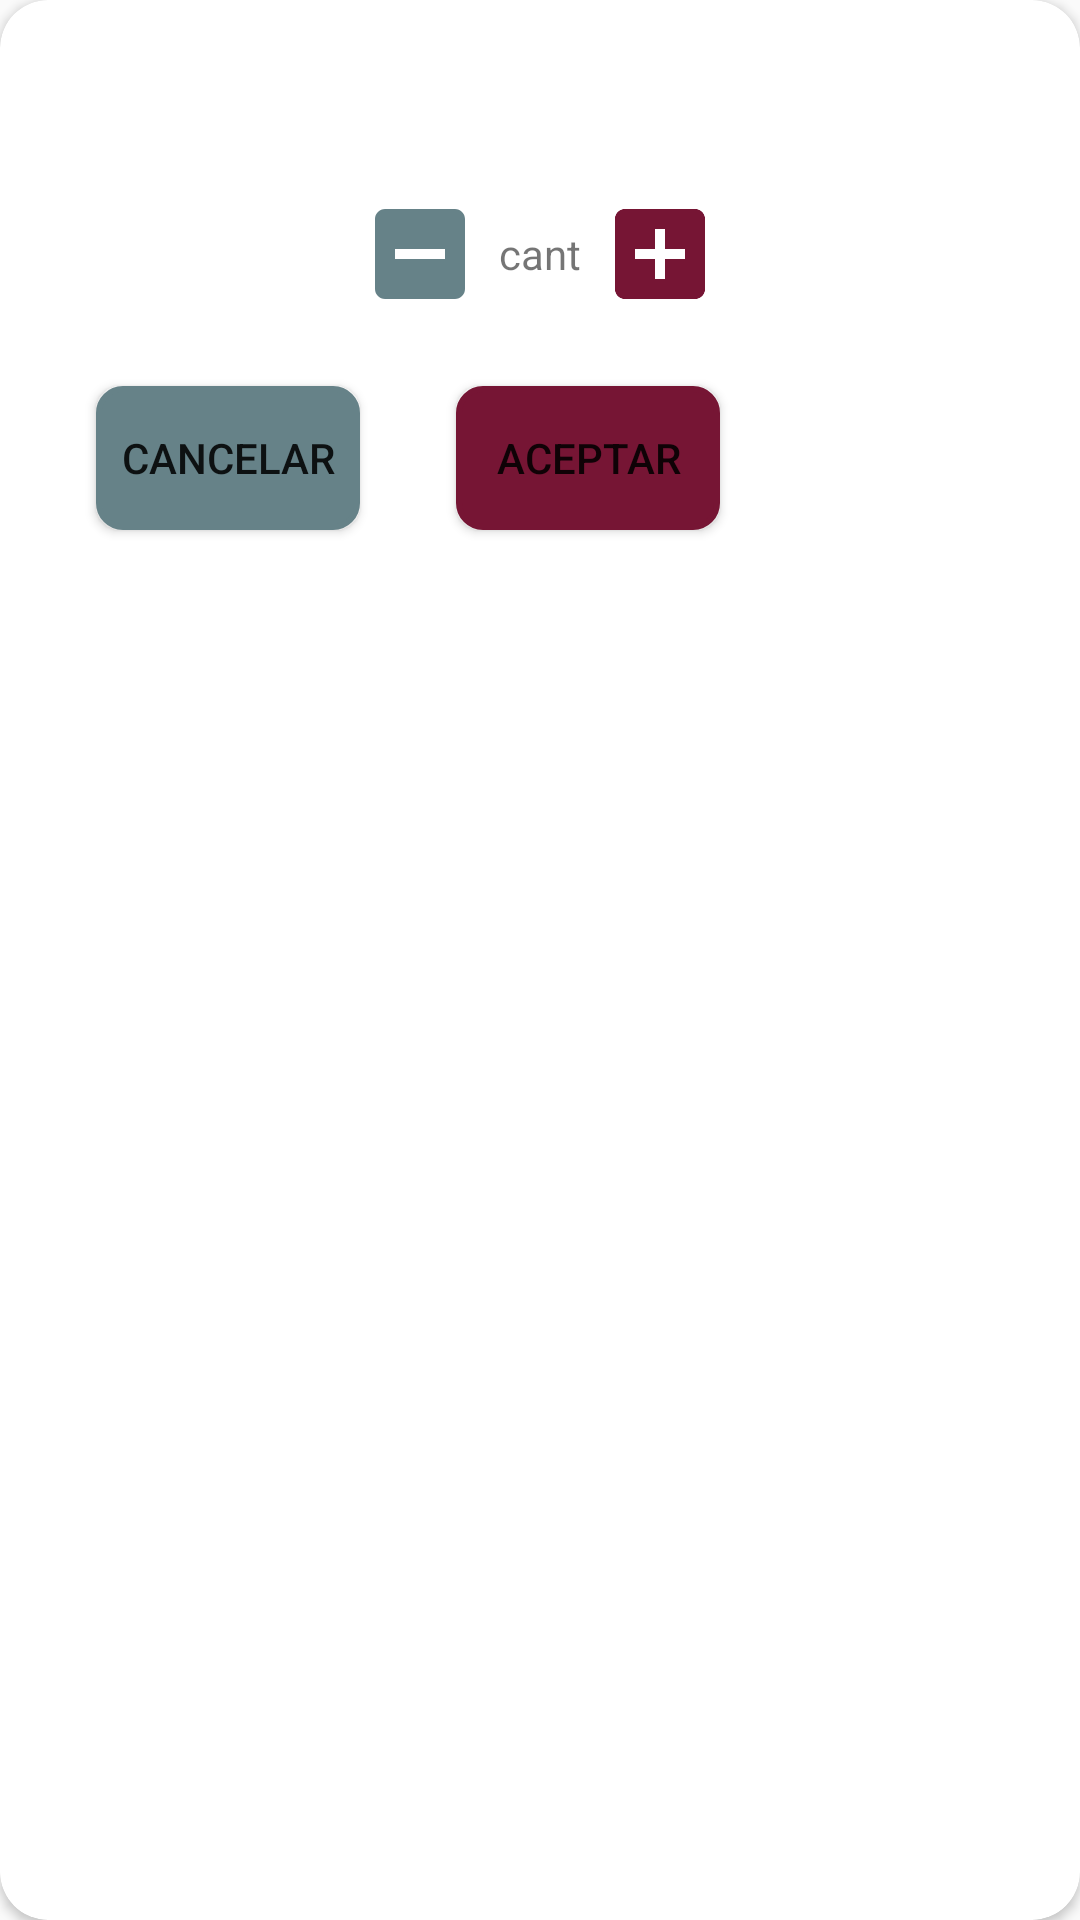

Screen size 1080w x 1920h. Icon name, then its box in pixels as (x1, y1, x2, y2):
minusbox: (375, 209, 465, 299)
morebox: (615, 209, 705, 299)
